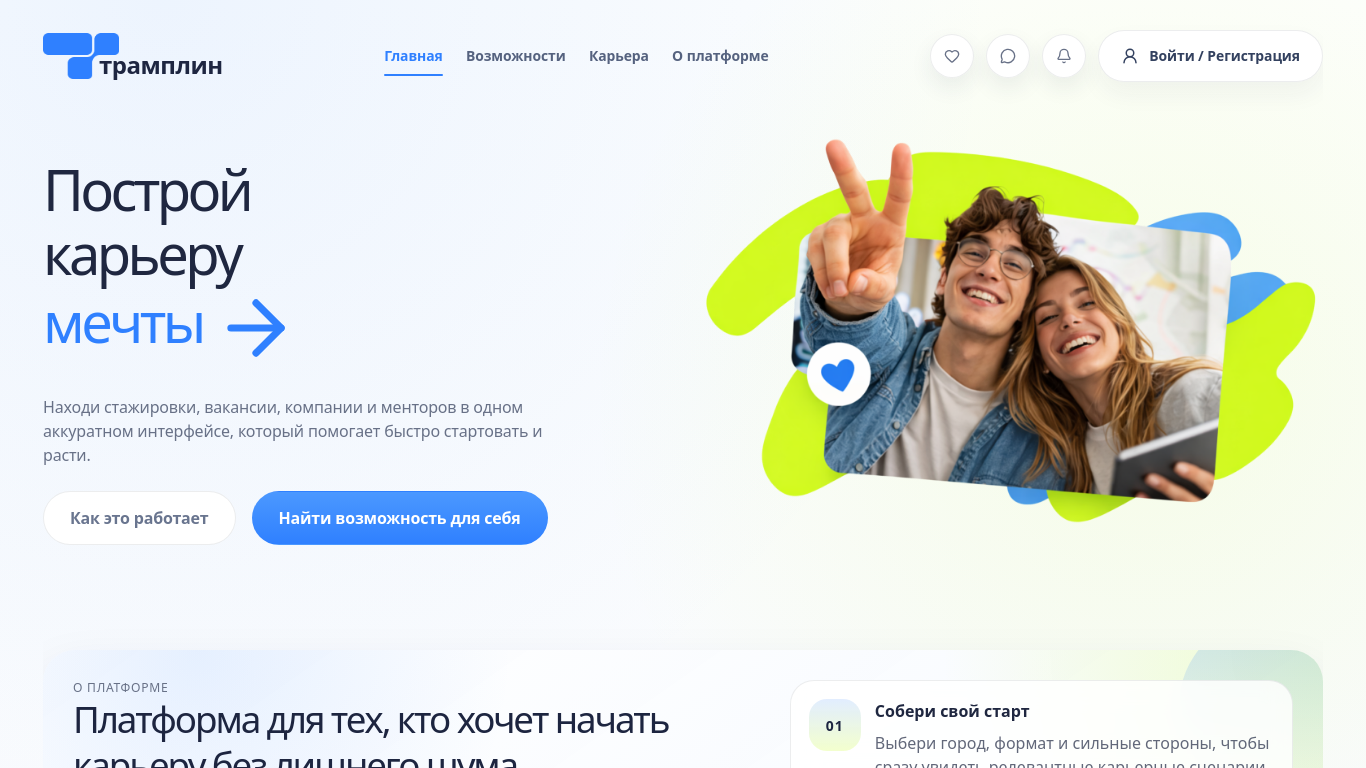
it: HomeApp › sends guests from the hero discovery action to login
The width and height of the screenshot is (1366, 768).
Step 1. Click the button with class "home-hero__primary" → click(400, 518), box [252,491,548,545]
(page scrolled)
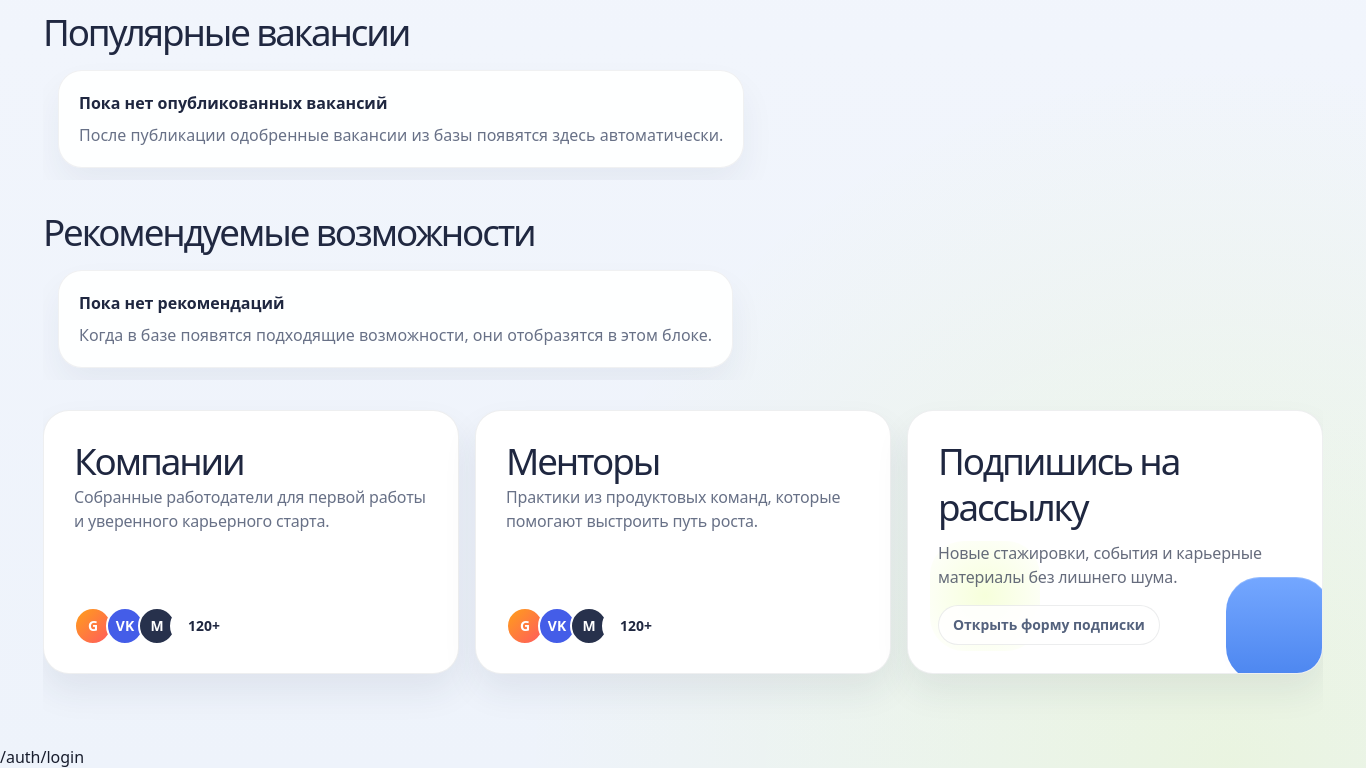
Expected: the text with test id "location-path" reads "/auth/login", [0,746,84,767]
